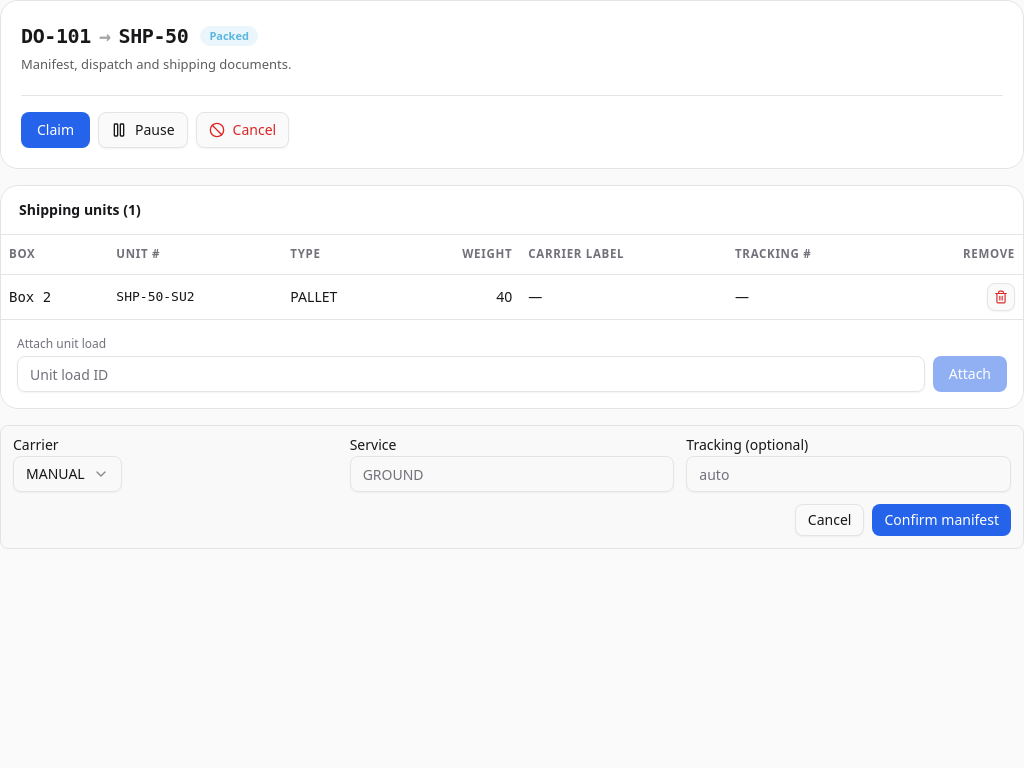
Test: ShipDetail -- Task 9 units table (Box/carrier/tracking) + per-unit remove › captions an AD_HOC unit removal "back to stock"
Step 1. Click the button with test id "ship-unit-remove-btn-501" → (1001, 297), box [987,283,1015,311]
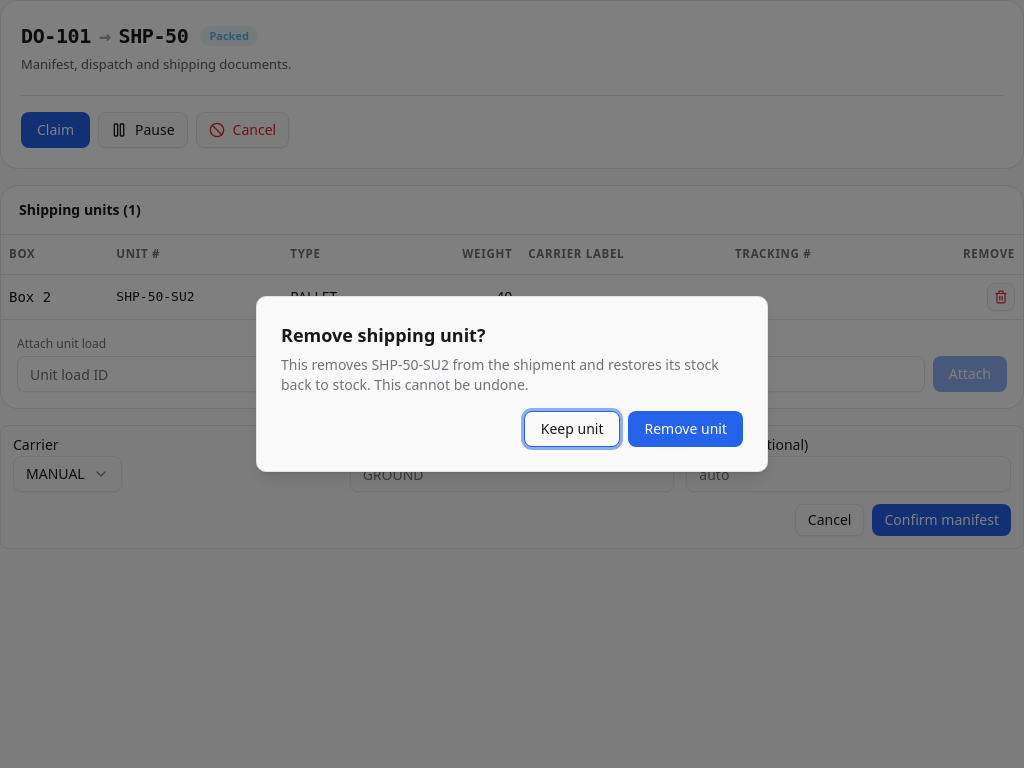
Result: the text "back to stock" is shown at [281,355,719,394]
